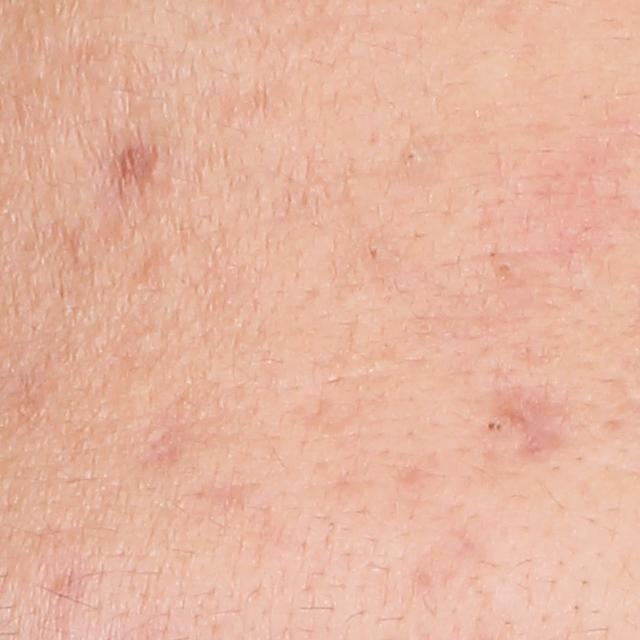atrophic_scar: (491, 392, 560, 462)
comedo: (402, 146, 427, 170), (483, 416, 509, 436), (364, 241, 382, 267), (495, 260, 511, 275)
